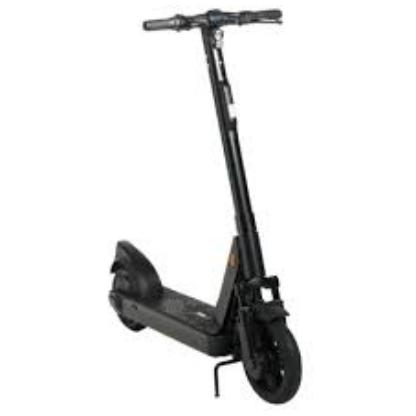bike: (107, 6, 304, 406)
